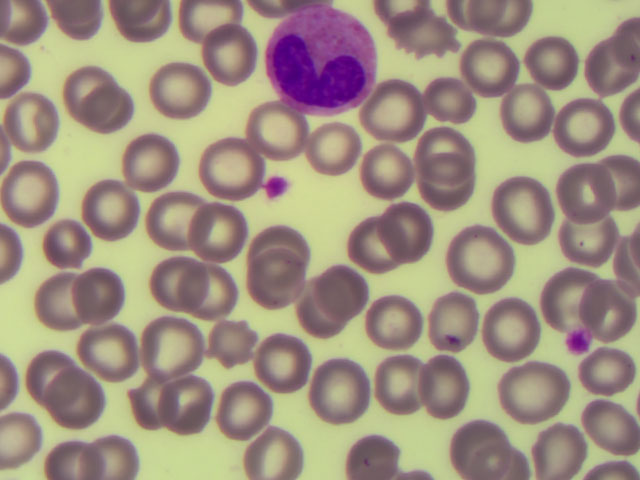Platelets: (260, 169, 294, 201), (561, 328, 596, 355)
RBC: (59, 57, 119, 114), (74, 83, 134, 140), (4, 92, 64, 149), (6, 161, 66, 218), (39, 215, 99, 272), (80, 179, 140, 236), (124, 134, 184, 191), (153, 60, 213, 117), (200, 25, 260, 82), (184, 1, 244, 58), (199, 139, 259, 196), (239, 103, 299, 160), (305, 120, 365, 177), (353, 141, 413, 198), (255, 210, 315, 267), (240, 253, 300, 310), (193, 262, 253, 319), (143, 255, 203, 312), (198, 202, 258, 259), (155, 197, 215, 254), (71, 262, 131, 319), (30, 276, 90, 333), (79, 322, 139, 379), (51, 363, 111, 420), (16, 337, 76, 394), (71, 423, 131, 480), (40, 423, 100, 480), (116, 374, 176, 431), (153, 368, 213, 425), (137, 318, 197, 375), (207, 320, 267, 377), (244, 330, 304, 387), (213, 377, 273, 434), (238, 422, 298, 479), (335, 423, 395, 480), (306, 366, 366, 423), (284, 284, 344, 341), (310, 266, 370, 323), (334, 218, 394, 275), (381, 203, 441, 260), (419, 158, 479, 215), (422, 122, 482, 179), (368, 83, 428, 140), (409, 76, 469, 133), (468, 35, 528, 92), (404, 13, 464, 70), (517, 36, 577, 93), (507, 90, 567, 147), (540, 92, 600, 149), (580, 35, 640, 92), (580, 148, 640, 205), (555, 170, 615, 227), (495, 176, 555, 233), (445, 232, 505, 289), (423, 294, 483, 351), (365, 294, 425, 351), (367, 358, 427, 415), (416, 355, 476, 412), (505, 365, 565, 422), (486, 293, 546, 350), (540, 270, 600, 327), (579, 276, 639, 333), (580, 348, 640, 405), (580, 396, 640, 453), (536, 423, 596, 480), (449, 423, 509, 480), (110, 1, 177, 51)
WBC: (270, 8, 371, 112)
